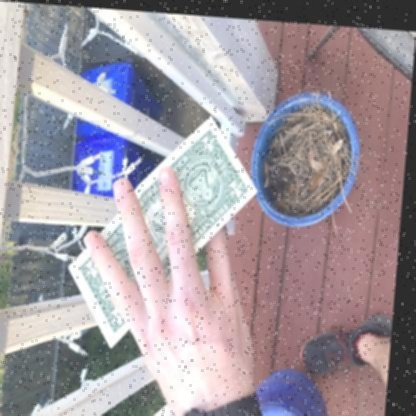one-back: (63, 115, 257, 347)
